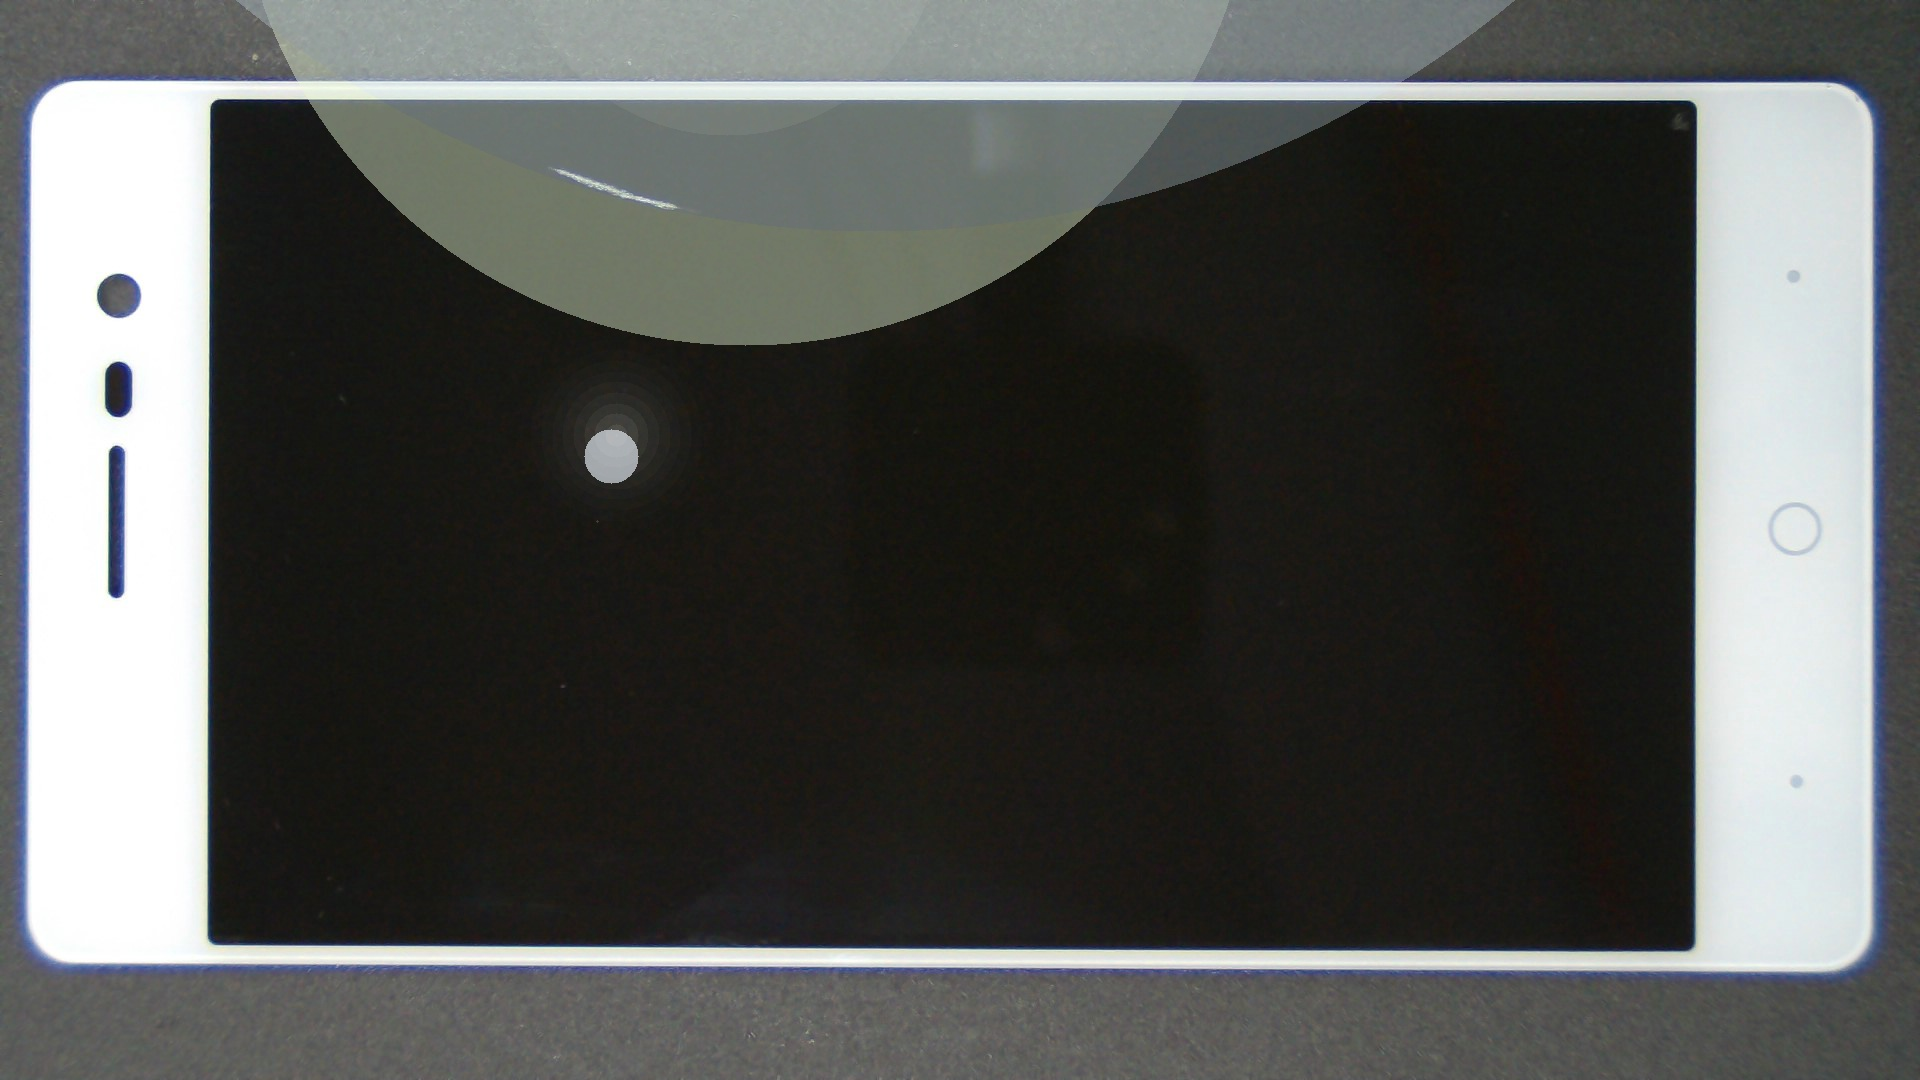oil: (274, 83, 822, 249)
